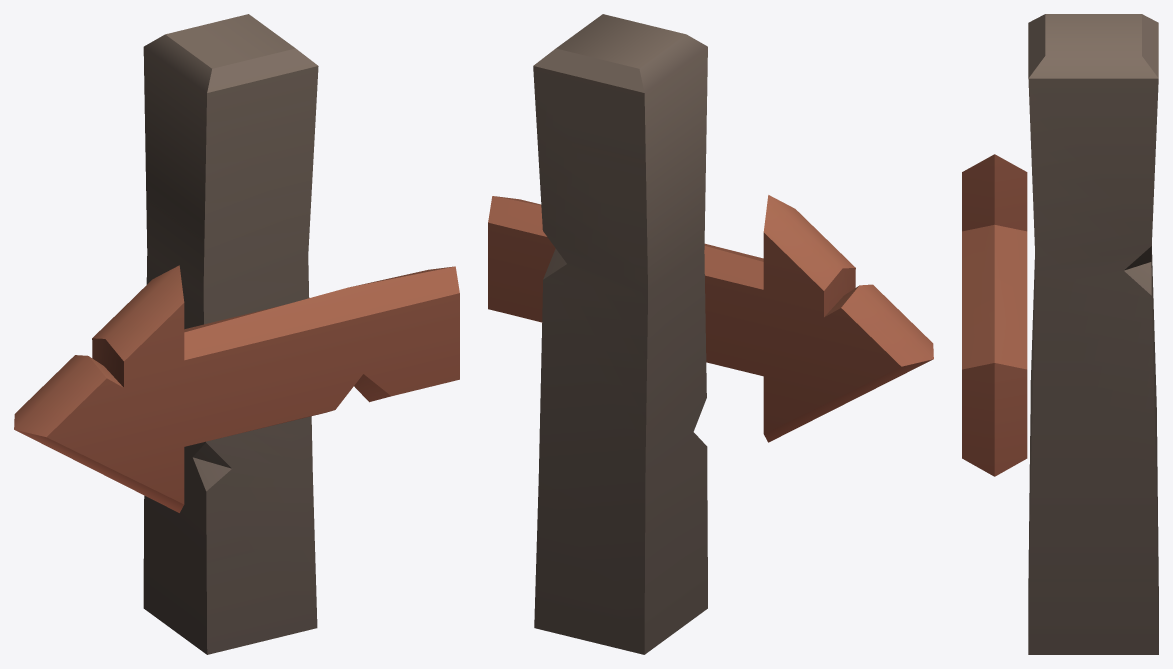
Rendered from sign_left.glb.
3 views of the same model, side by side, from view 1: azimuth 30°, elevation 25°; view 2: azimuth 150°, elevation 25°; view 3: azimuth 270°, elevation 25° (orthographic). The views are drawn at different scales.
Visible parts, largest first — view 1: sign_left; view 2: sign_left; view 3: sign_left.
Part boxes in pixels (<box>): sign_left: <box>14,14,459,654</box>; sign_left: <box>488,14,933,654</box>; sign_left: <box>962,14,1158,654</box>.
Size of the model in its own units: 1.6 by 2 by 0.6026.
Materials: 1 (1 with a texture image).
